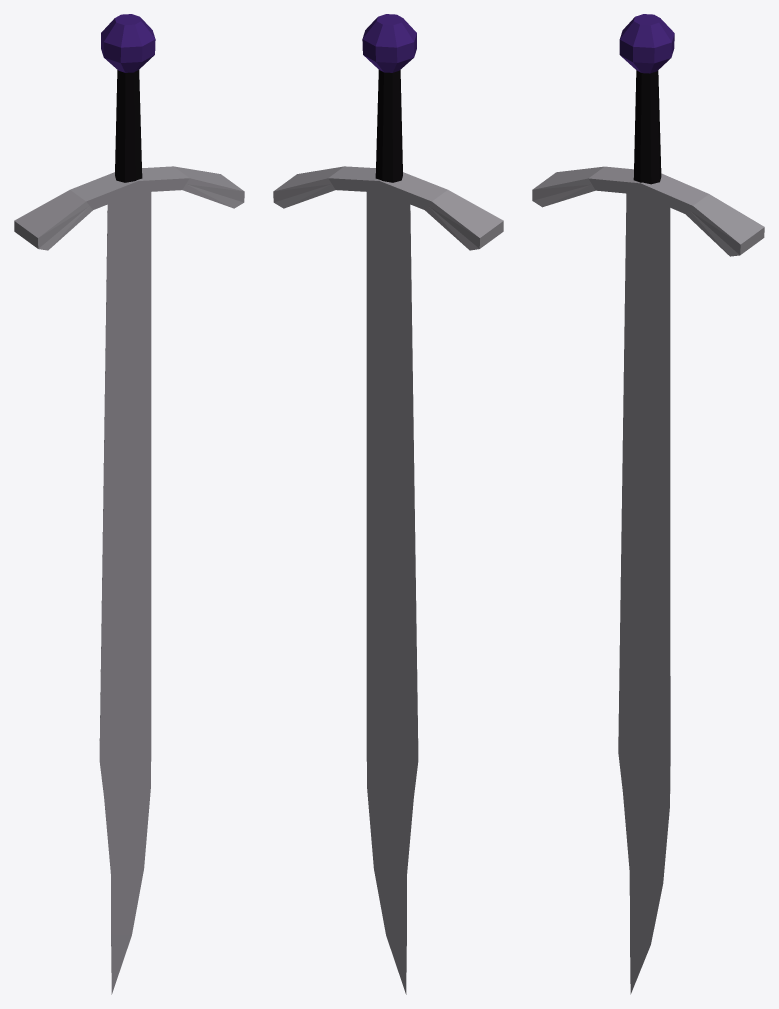
Rendered from falchion.obj.
3 renders of one model, left to right at view 1: azimuth 30°, elevation 25°; view 2: azimuth 150°, elevation 25°; view 3: azimuth 330°, elevation 25°, orthographic.
Parts seen in each view (by area): view 1: Falchion_sword_Cube.007; view 2: Falchion_sword_Cube.007; view 3: Falchion_sword_Cube.007.
Part boxes in pixels (x1,y1,x2,y2): Falchion_sword_Cube.007: (14,14,244,994); Falchion_sword_Cube.007: (273,14,503,994); Falchion_sword_Cube.007: (532,14,764,994).
Size of the model in its own units: 2.96 by 13.28 by 0.7007.
